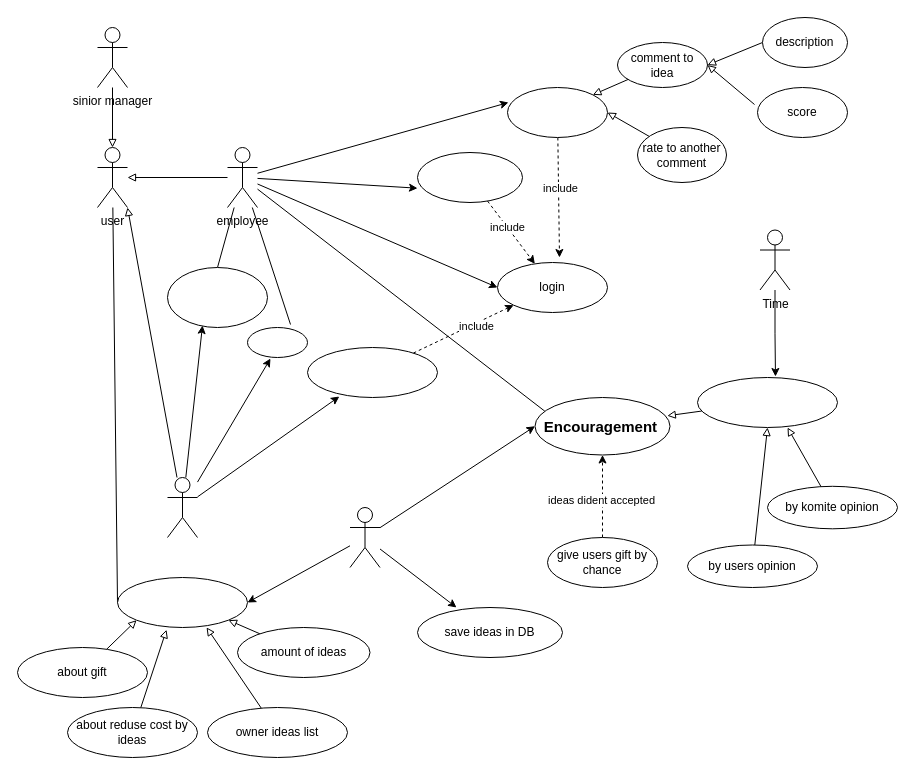
Some shapes in this 915 by 775 pixel diagram are drawn without their labels. Here are the shapes that lost their labels. From the top down, the box of each, then its label:
(506, 86, 608, 138): comment
(416, 152, 522, 202): record idea
(166, 266, 268, 328): show Evaluation Criteria
(246, 326, 308, 358): feedback
(306, 346, 438, 398): find important idea
(696, 376, 838, 428): notice 10 better idea
(166, 476, 198, 538): comite
(349, 506, 380, 568): System
(116, 576, 248, 628): report
